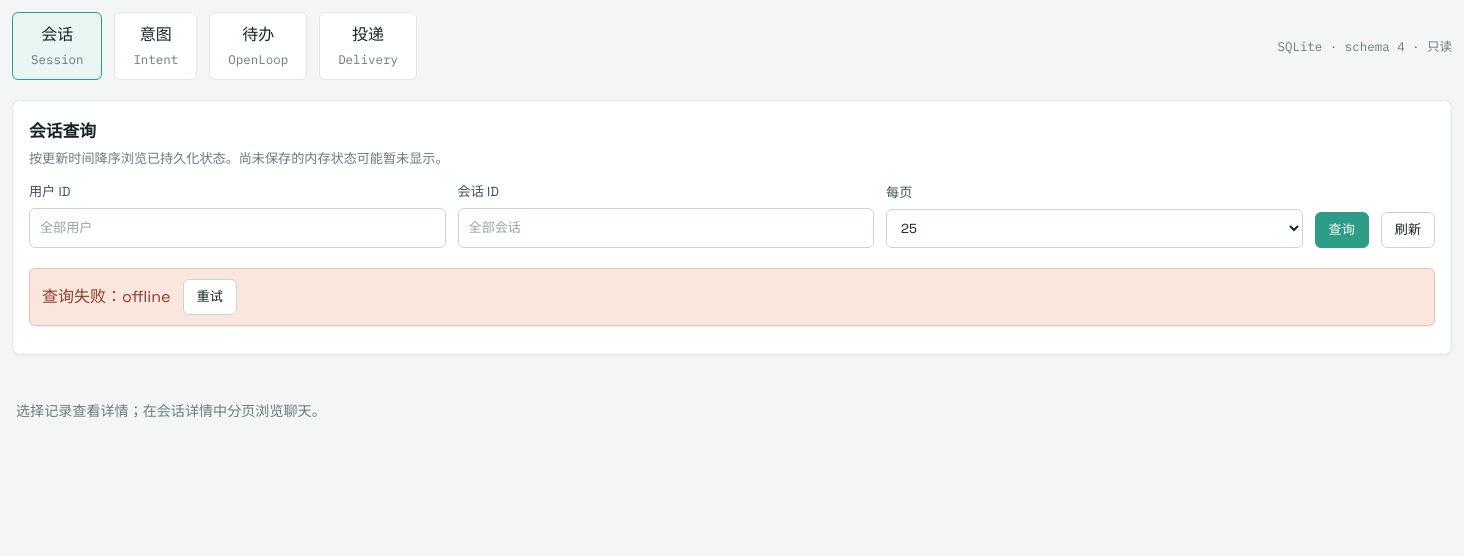
Test case: state queries › supports empty results, errors and explicit retry
expect the message "查询失败：offline 重试" is shown: met, box [29,268,1435,326]
Click the button "重试" at (210, 297), box [182,279,237,315]
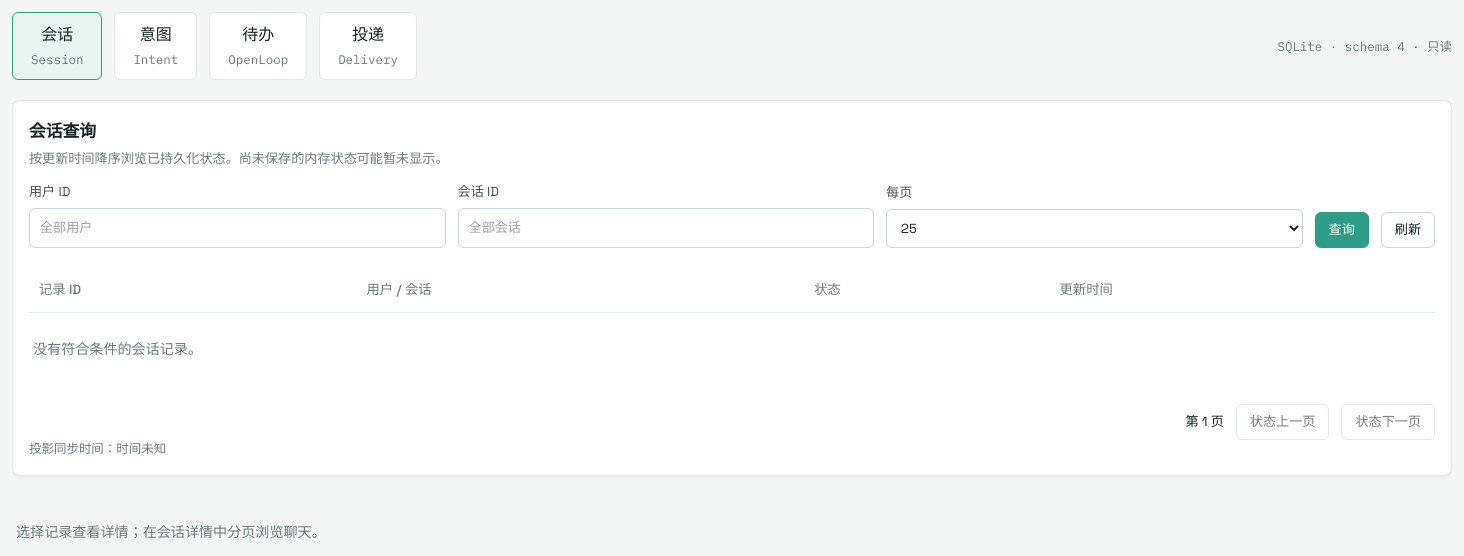
expect the text "没有符合条件的会话记录。" is shown: met, box [33,340,202,358]
